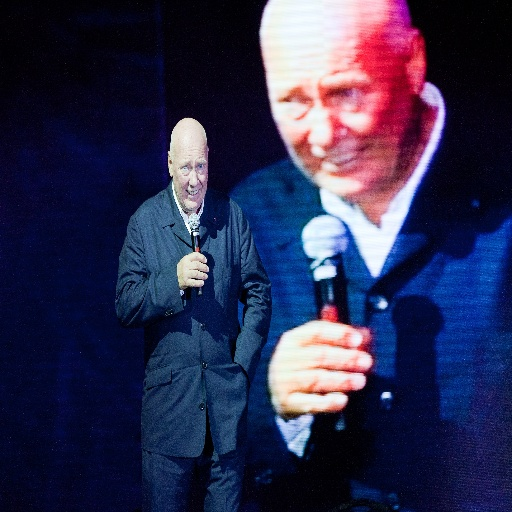hand: (264, 315, 375, 419), (175, 248, 209, 290)
